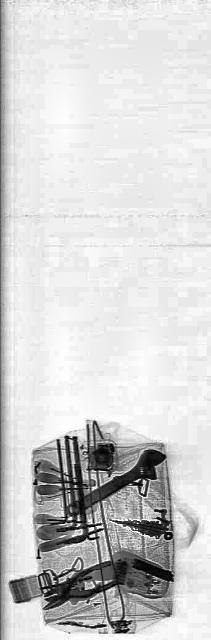Pliers: (43, 554, 116, 614), (39, 560, 101, 618)
Wrench: (65, 436, 167, 532)
